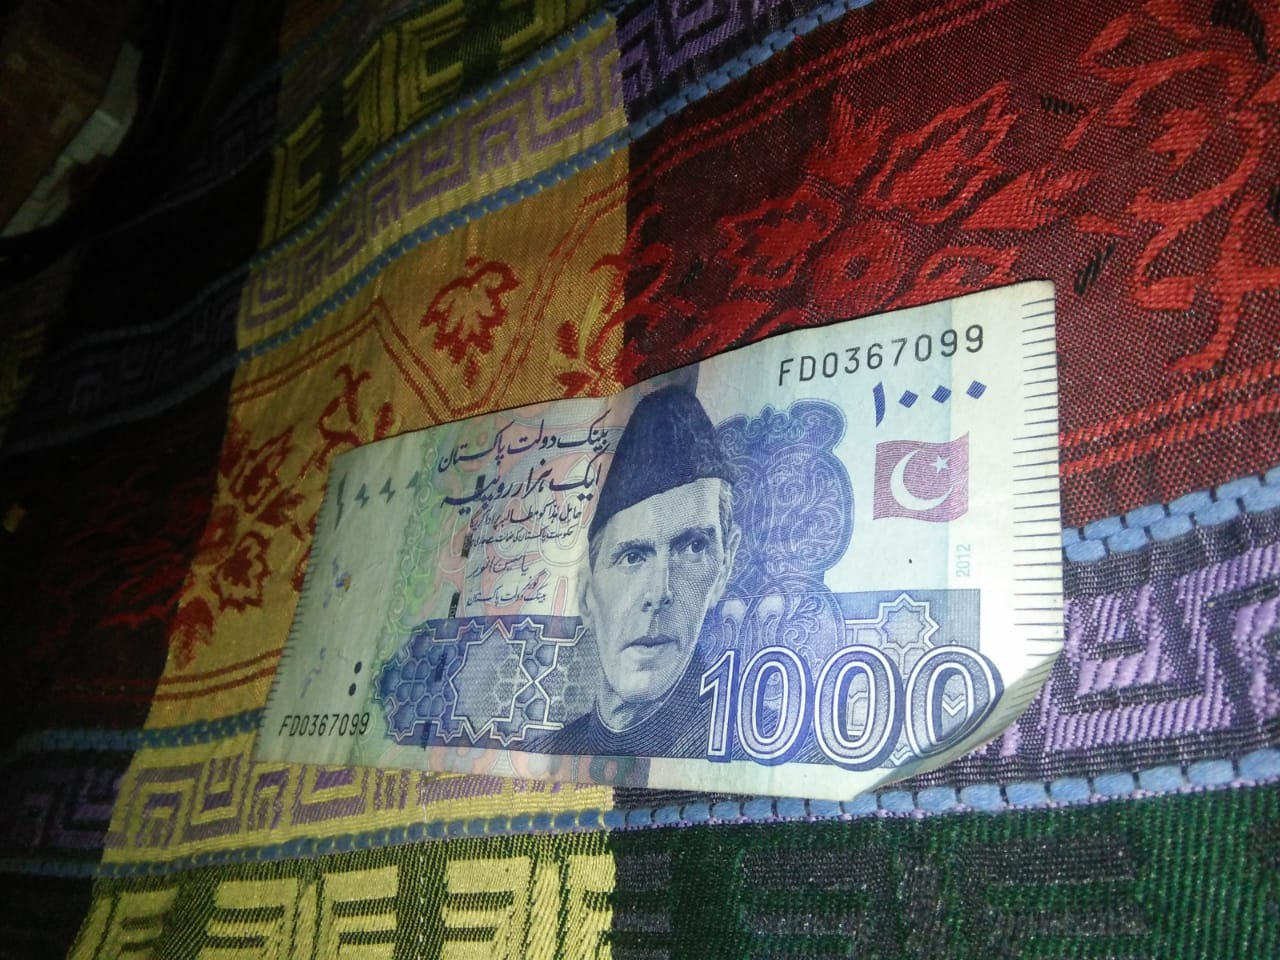1000 rupee: (250, 292, 1085, 821)
